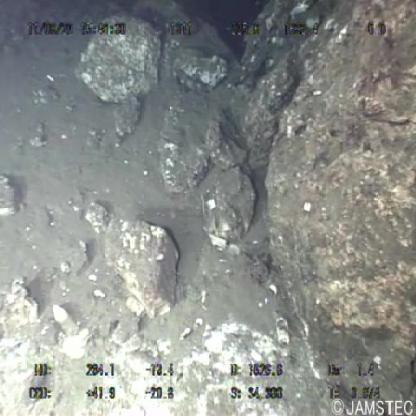Rác: (50, 303, 80, 339)
